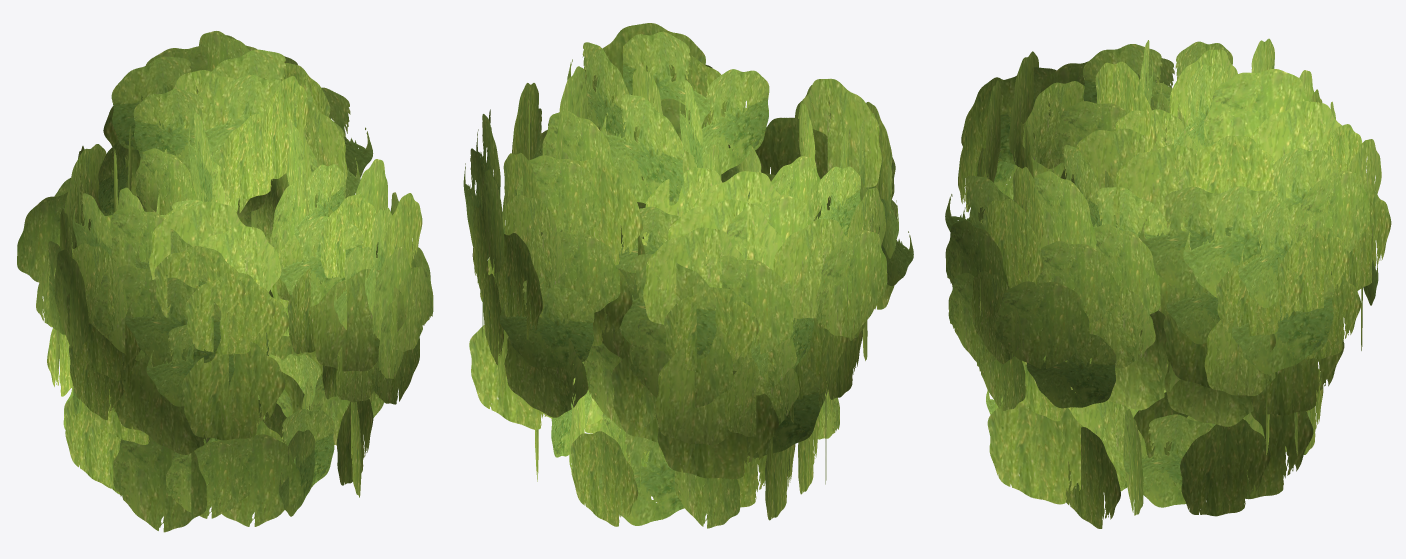
File: Luminous_Weeping_Will.fbx
The picture shows the model from 3 angles, left to right: view 1: azimuth 30°, elevation 25°; view 2: azimuth 150°, elevation 25°; view 3: azimuth 270°, elevation 25°; orthographic projection. The views are drawn at different scales.
Parts seen in each view (by area): view 1: Luminous_Weeping_Will_LOD0; view 2: Luminous_Weeping_Will_LOD0; view 3: Luminous_Weeping_Will_LOD0.
Part boxes in pixels (box(x1,y1,x2,y2)): Luminous_Weeping_Will_LOD0: box(17, 31, 433, 532); Luminous_Weeping_Will_LOD0: box(463, 23, 913, 528); Luminous_Weeping_Will_LOD0: box(945, 38, 1391, 528).
Size of what is drawn, in the model's own units: 1.7 by 2.07 by 1.89.
2 materials, 2 textured.
